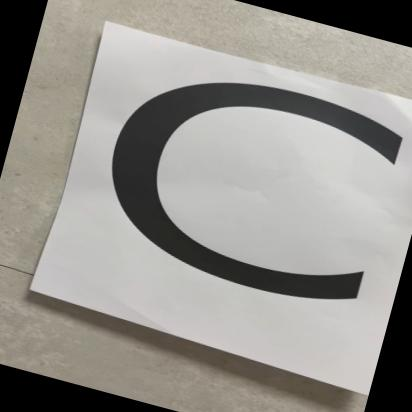seat: (21, 0, 412, 409)
